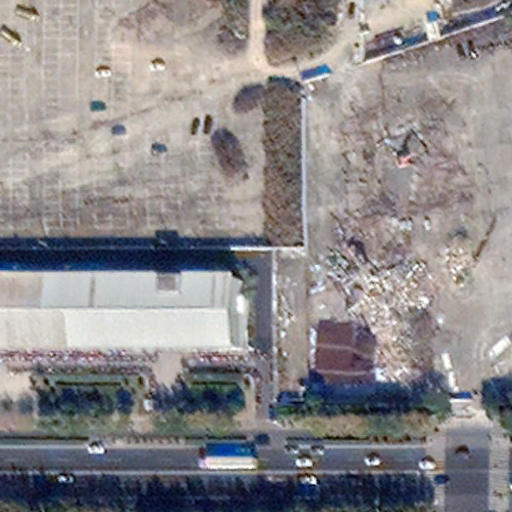msw: (319, 222, 432, 383), (438, 228, 475, 291)
